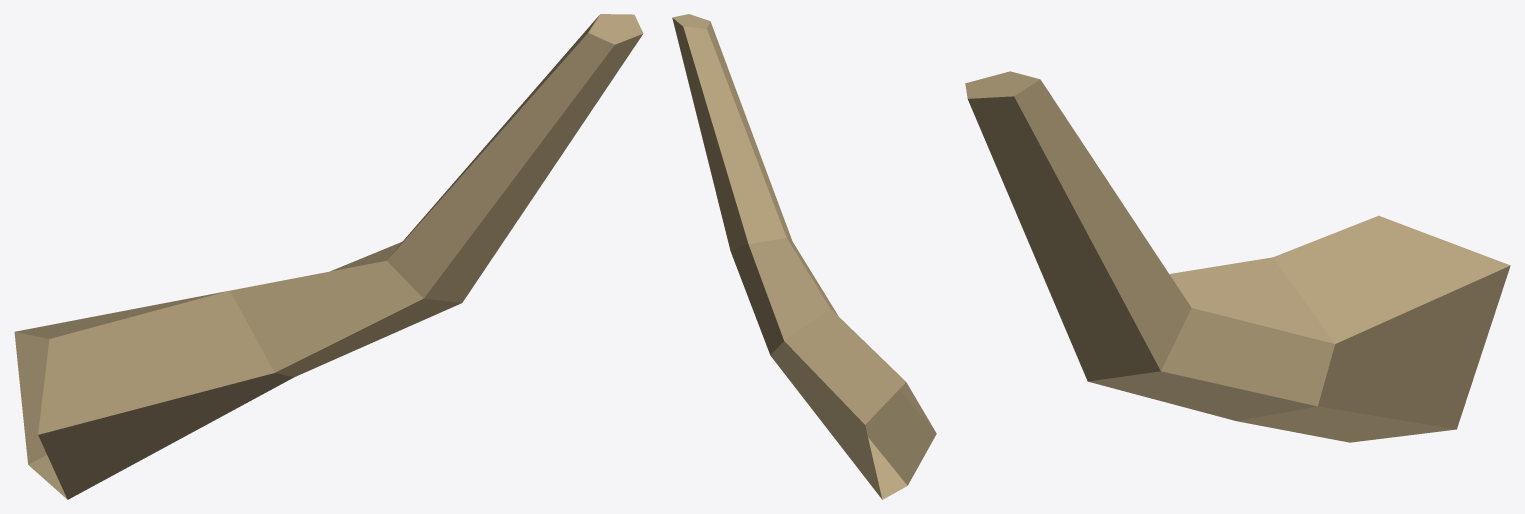
Rendered from Branch1.fbx.
The picture shows the model from 3 angles, left to right: view 1: azimuth 30°, elevation 25°; view 2: azimuth 150°, elevation 25°; view 3: azimuth 270°, elevation 25°; orthographic projection. The views are drawn at different scales.
Visible parts, largest first — view 1: Cylinder002; view 2: Cylinder002; view 3: Cylinder002.
Part boxes in pixels (x1,y1,x2,y2): Cylinder002: (14, 14, 643, 499); Cylinder002: (672, 14, 936, 499); Cylinder002: (965, 71, 1510, 442).
Size of the model in its own units: 31.32 by 28.59 by 21.47.
